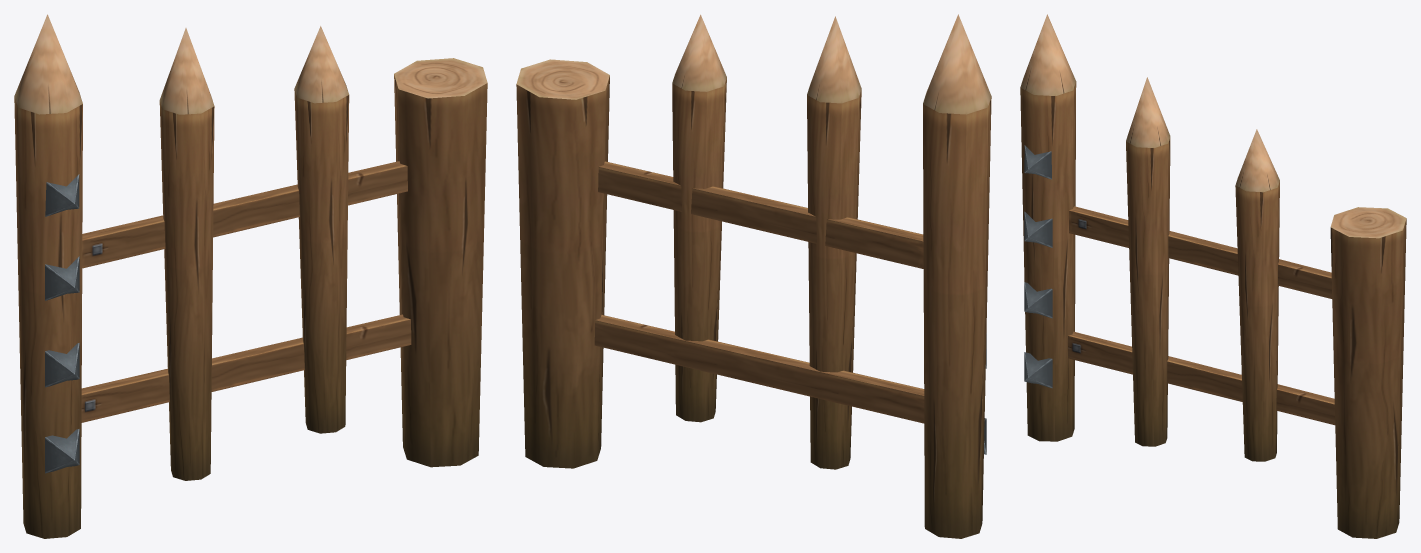
File: gates_05_right.fbx
3 renders of one model, left to right at view 1: azimuth 30°, elevation 25°; view 2: azimuth 150°, elevation 25°; view 3: azimuth 330°, elevation 25°, orthographic. The views are drawn at different scales.
Parts seen in each view (by area): view 1: gates_05_right:Mesh; view 2: gates_05_right:Mesh; view 3: gates_05_right:Mesh.
Boxes of the visible parts, box(x1,y1,x2,y2) form: gates_05_right:Mesh: box(14, 14, 487, 538); gates_05_right:Mesh: box(516, 14, 991, 538); gates_05_right:Mesh: box(1020, 14, 1406, 538).
Bounding box in the file's own units: 4.38 × 4.79 × 0.8172.
